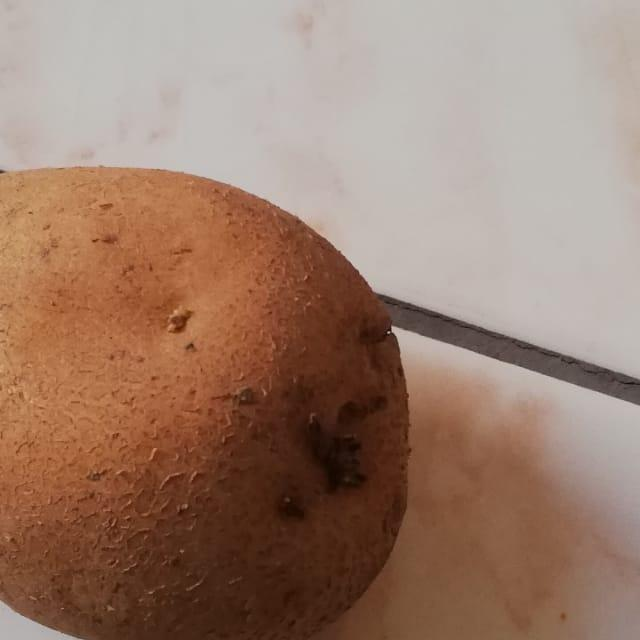potato: (0, 126, 428, 640)
